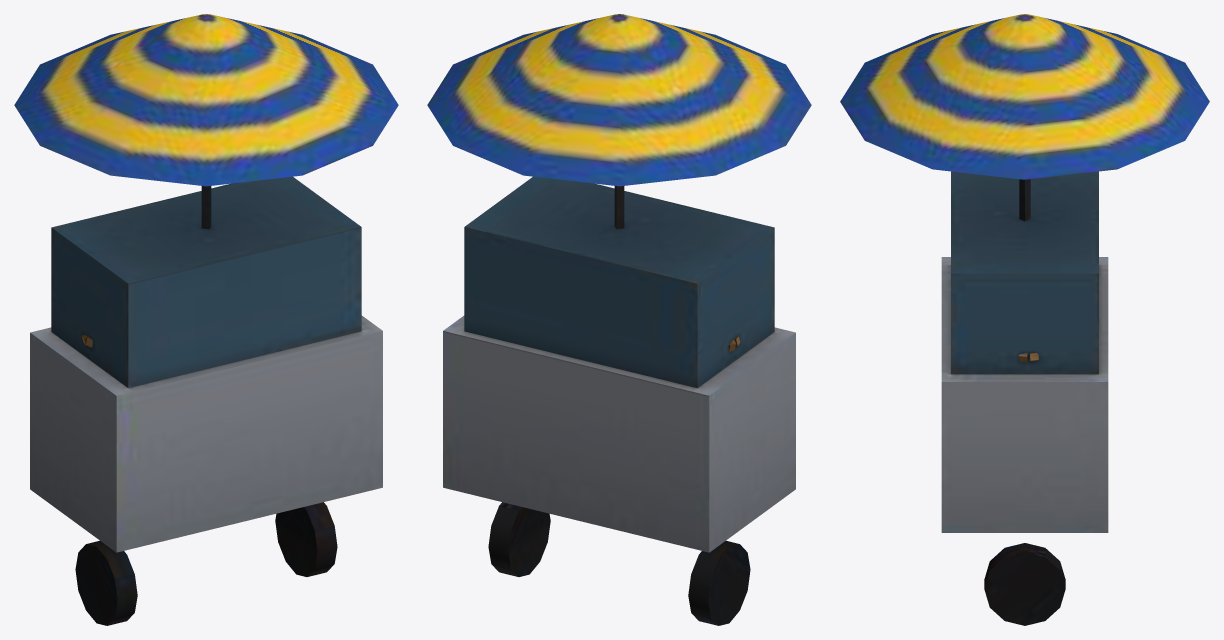
Rendered from carrito_pretzel.glb.
3 views of the same model, side by side, from view 1: azimuth 30°, elevation 25°; view 2: azimuth 150°, elevation 25°; view 3: azimuth 270°, elevation 25° (orthographic). The views are drawn at different scales.
Visible parts, largest first — view 1: carrito_pretzel; view 2: carrito_pretzel; view 3: carrito_pretzel.
Boxes of the visible parts, x1,y1,x2,y2 form: carrito_pretzel: (14, 14, 398, 625); carrito_pretzel: (427, 14, 811, 625); carrito_pretzel: (840, 14, 1209, 625).
Size of the model in its own units: 2 by 3.32 by 2.
1 material, 1 textured.
